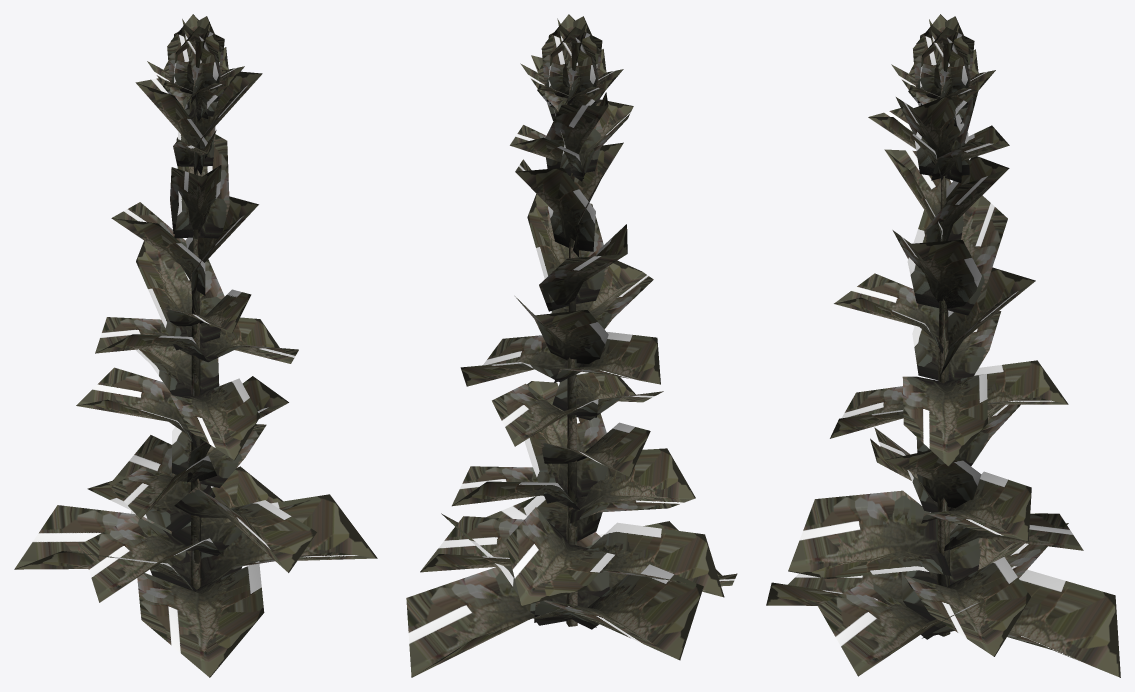
The model's file is SC_tamalagebi_25.FBX.
3 views of the same model, side by side, from view 1: azimuth 30°, elevation 25°; view 2: azimuth 150°, elevation 25°; view 3: azimuth 270°, elevation 25° (orthographic). The views are drawn at different scales.
Parts seen in each view (by area): view 1: SC_tamalagebi_25; view 2: SC_tamalagebi_25; view 3: SC_tamalagebi_25.
Boxes of the visible parts, x1,y1,x2,y2 form: SC_tamalagebi_25: [14, 14, 377, 677]; SC_tamalagebi_25: [406, 14, 737, 677]; SC_tamalagebi_25: [766, 14, 1120, 677].
Size of the model in its own units: 119 by 232 by 120.
